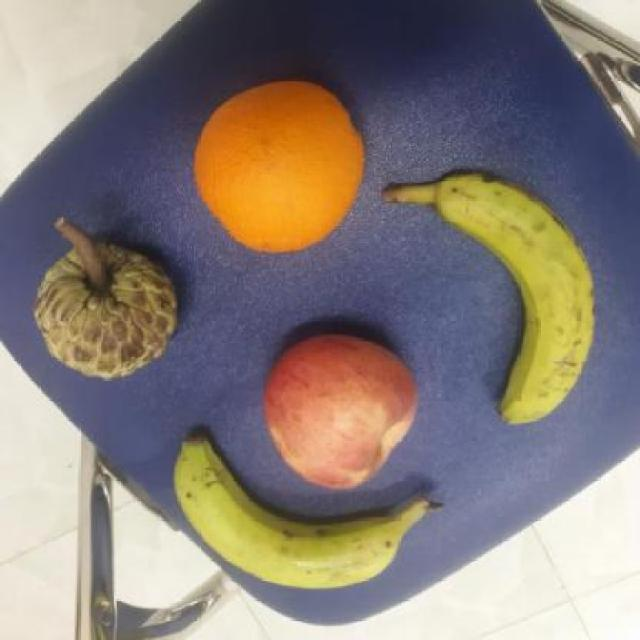apple: (258, 320, 418, 494)
banana: (154, 431, 438, 604), (429, 163, 596, 428)
oren: (190, 78, 370, 252)
sugar apple: (25, 234, 183, 386)
